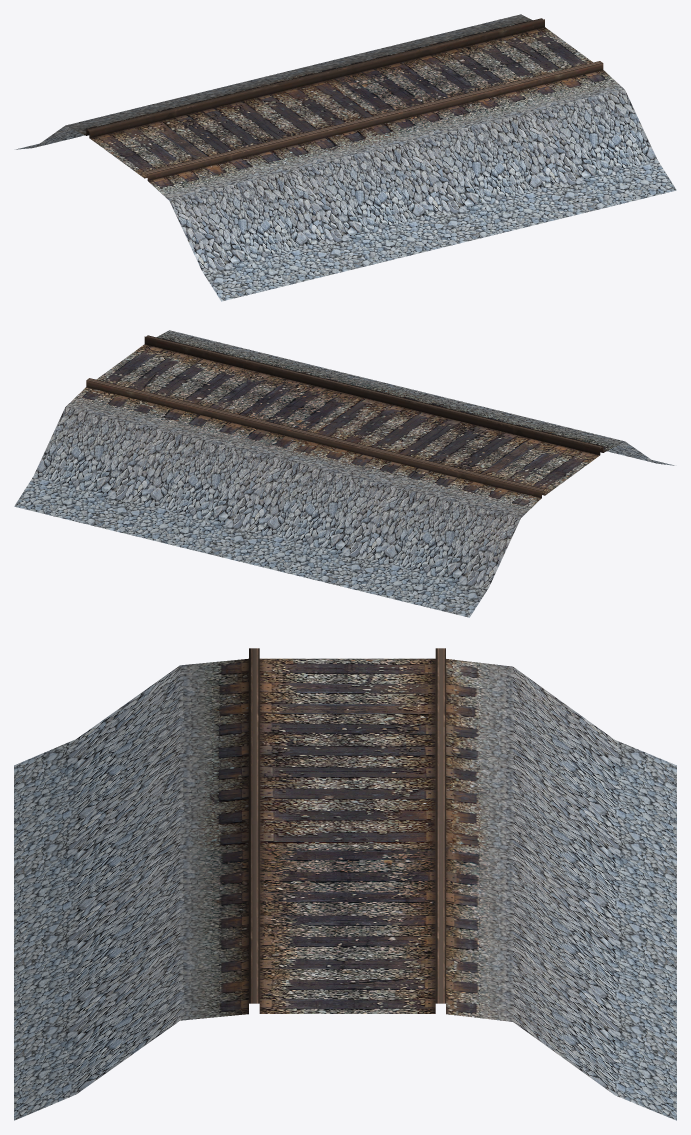
Rendered from railway_3.fbx.
3 renders of one model, top to bottom at view 1: azimuth 30°, elevation 25°; view 2: azimuth 150°, elevation 25°; view 3: azimuth 270°, elevation 25°, orthographic. The views are drawn at different scales.
Visible parts, largest first — view 1: Plane; view 2: Plane; view 3: Plane.
Boxes of the visible parts, box(x1,y1,x2,y2) form: Plane: box(15, 14, 676, 301); Plane: box(14, 330, 674, 617); Plane: box(14, 648, 676, 1120).
Size of the model in its own units: 375 by 58.81 by 296.
Materials: 1 (1 with a texture image).
